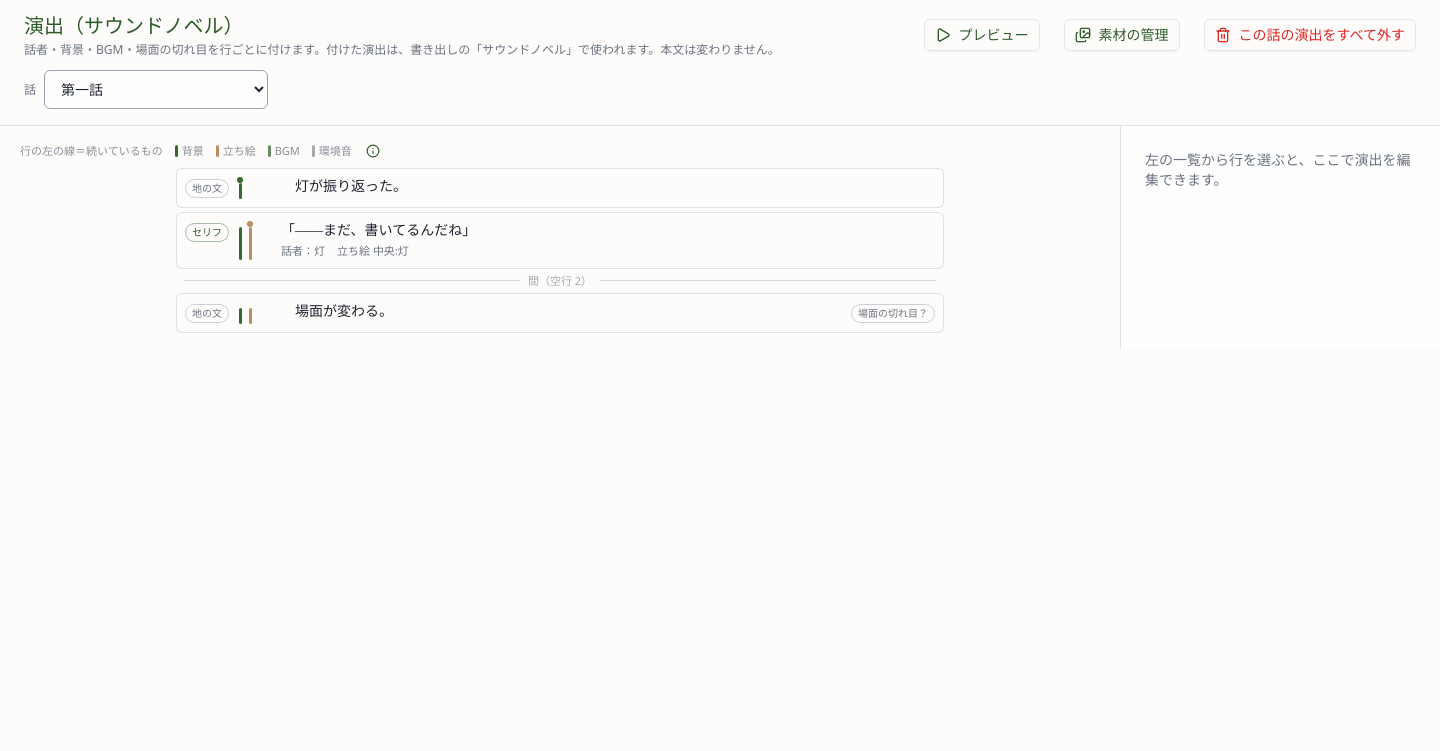
Scenario: StagingView（演出エディタ） › 席に立てた人物に立ち絵が複数あると表情を選べて、その場で cue に保存される
Click the text "「——まだ、書いてるんだね」".
click(379, 230)  # box left=281, top=223, right=476, bottom=238
(page scrolled)
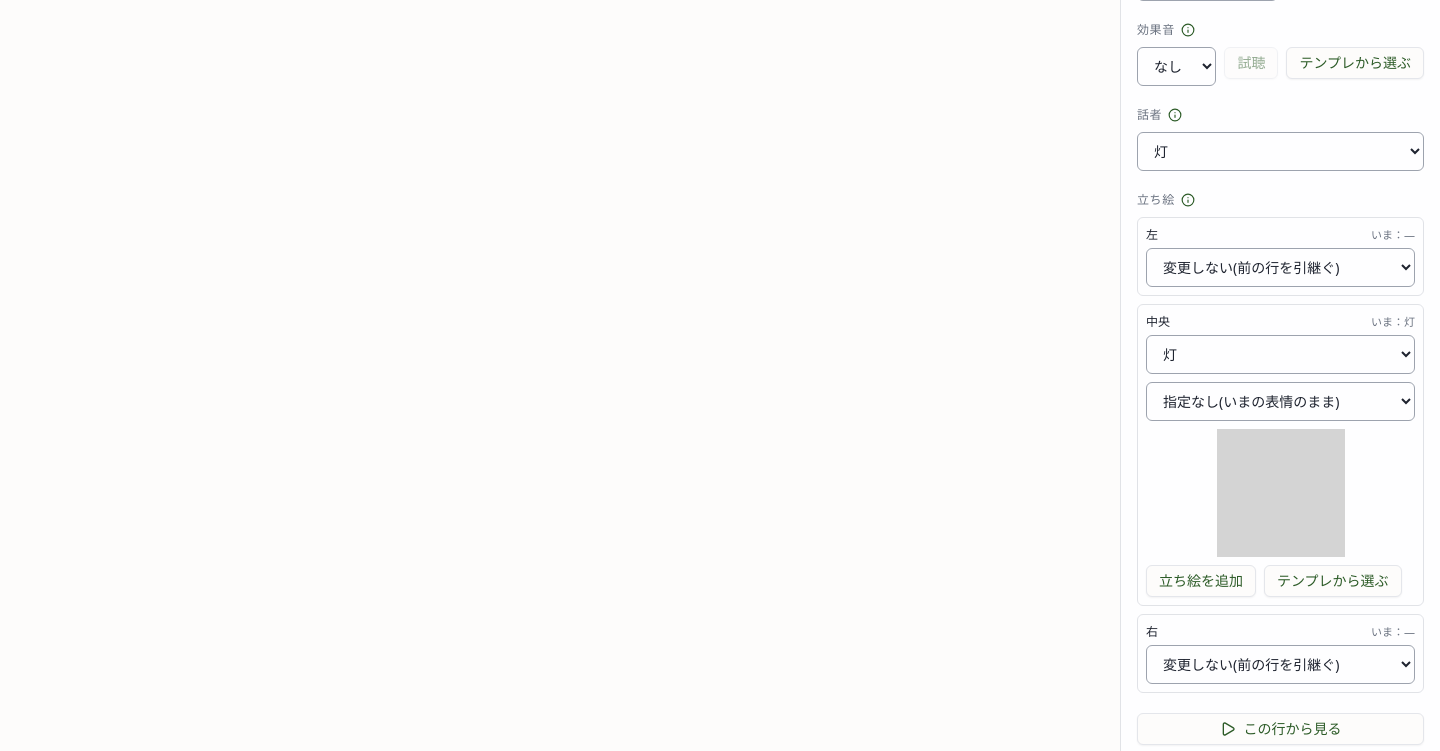
Select "笑顔" in the dropdown named "中央の表情" at (1280, 401), box left=1146, top=382, right=1415, bottom=421
(page scrolled)
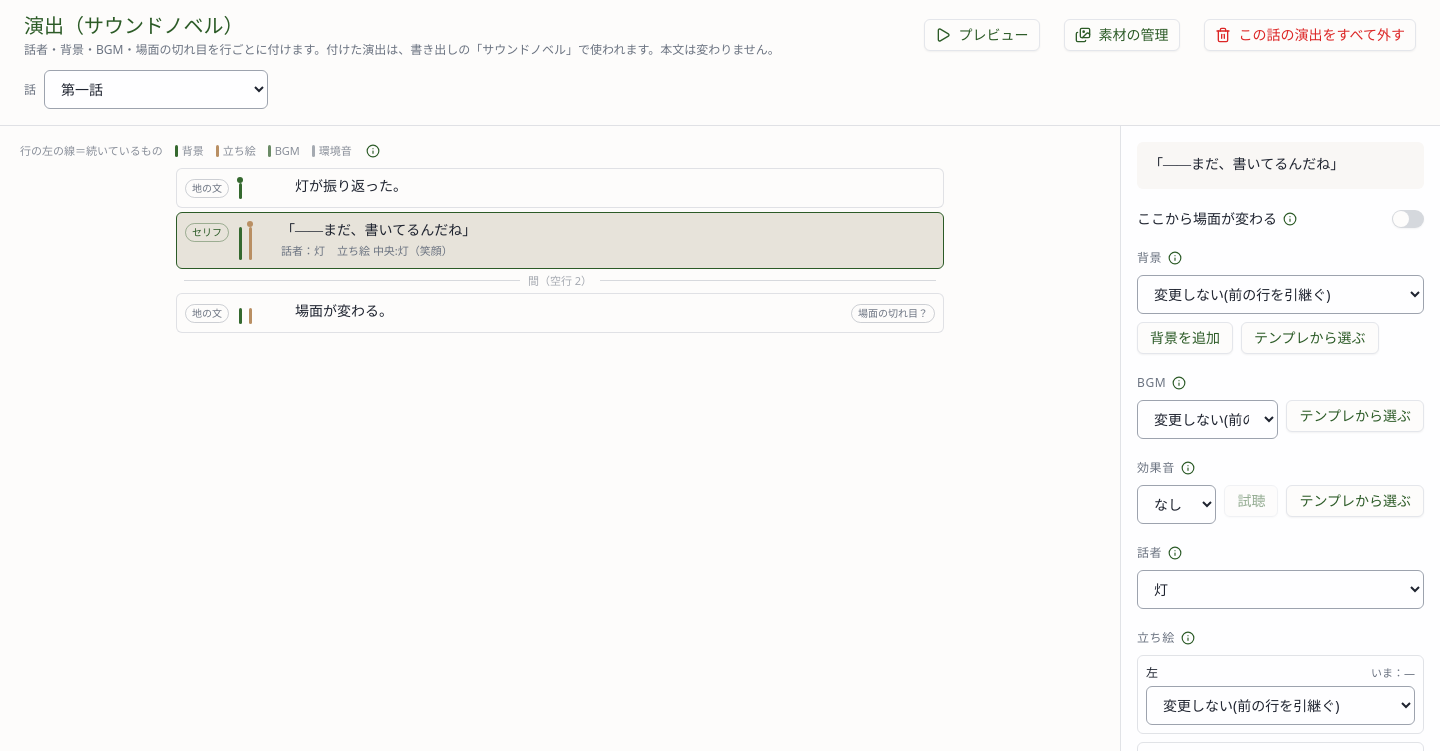
Check: the element titled "立ち絵：中央 灯" is shown, box left=247, top=221, right=253, bottom=260
Check: the text "立ち絵 中央:灯（笑顔）" is shown, box left=337, top=243, right=453, bottom=260
